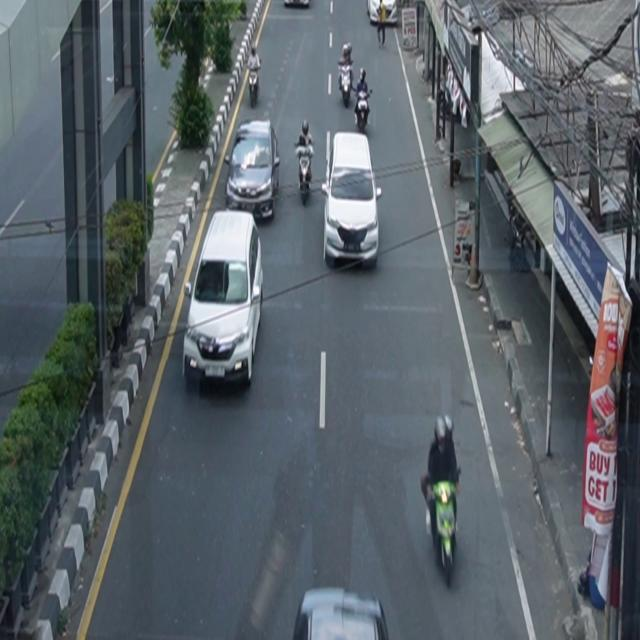car: (183, 210, 264, 390), (322, 132, 383, 270), (225, 120, 281, 222), (293, 587, 390, 640)
